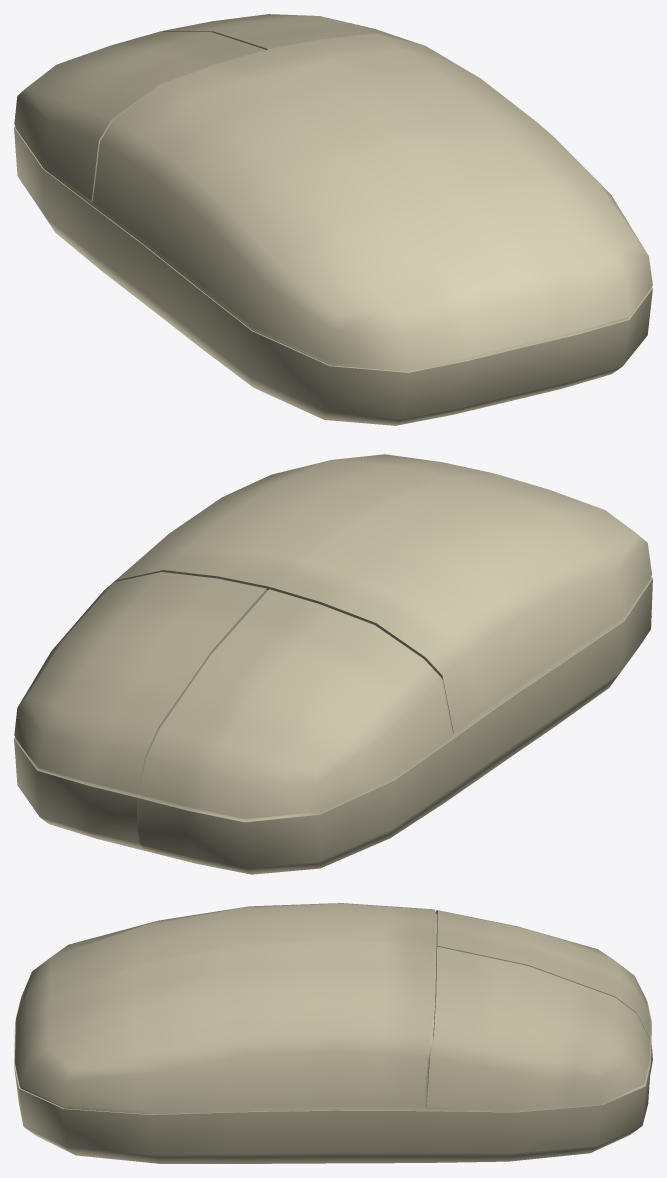
Rendered from mouse.fbx.
The picture shows the model from 3 angles, top to bottom: view 1: azimuth 30°, elevation 25°; view 2: azimuth 150°, elevation 25°; view 3: azimuth 270°, elevation 25°; orthographic projection. The views are drawn at different scales.
Visible parts, largest first — view 1: Mouse; view 2: Mouse; view 3: Mouse.
Boxes of the visible parts, bbox=[...] form: Mouse: bbox=[14, 14, 652, 425]; Mouse: bbox=[14, 454, 652, 874]; Mouse: bbox=[14, 903, 652, 1163].
Bounding box in the file's own units: 6.11 × 2.98 × 10.97.
